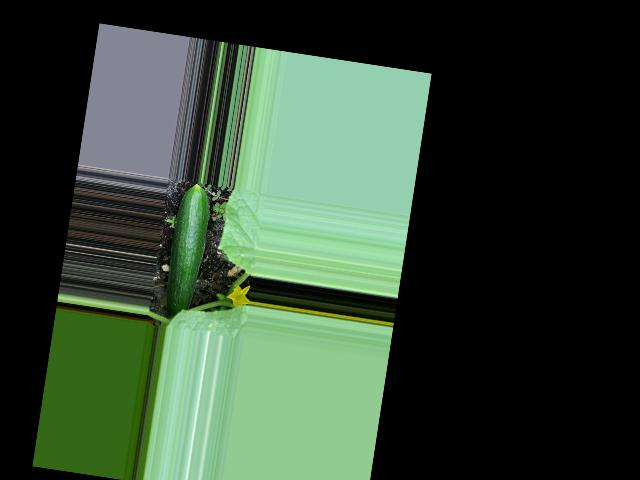cucumber: (161, 181, 213, 318)
